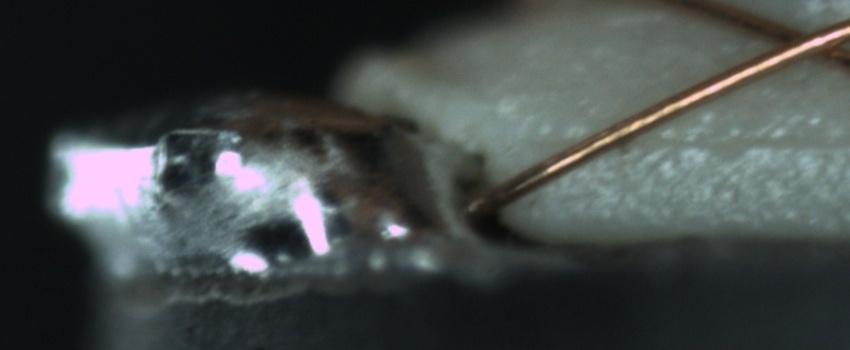CL: (747, 11, 847, 73)
DL: (553, 110, 849, 171)
